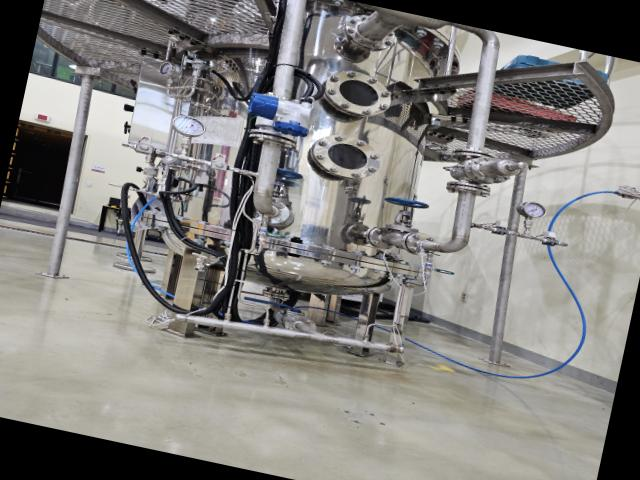Flange: (306, 128, 386, 187), (318, 66, 394, 122)
Flush Ring: (341, 10, 400, 56), (256, 197, 296, 230), (246, 126, 296, 150), (442, 177, 492, 200), (448, 146, 500, 168), (280, 314, 318, 340), (402, 230, 438, 257), (365, 224, 395, 251)
GasRegulator: (149, 50, 231, 116)
Nuts: (129, 140, 165, 160), (533, 234, 567, 252), (203, 158, 236, 176), (484, 222, 515, 241)
Piston Valve: (379, 192, 438, 236), (273, 167, 308, 203)
Pressure Gage: (163, 112, 210, 158), (510, 198, 554, 238)
